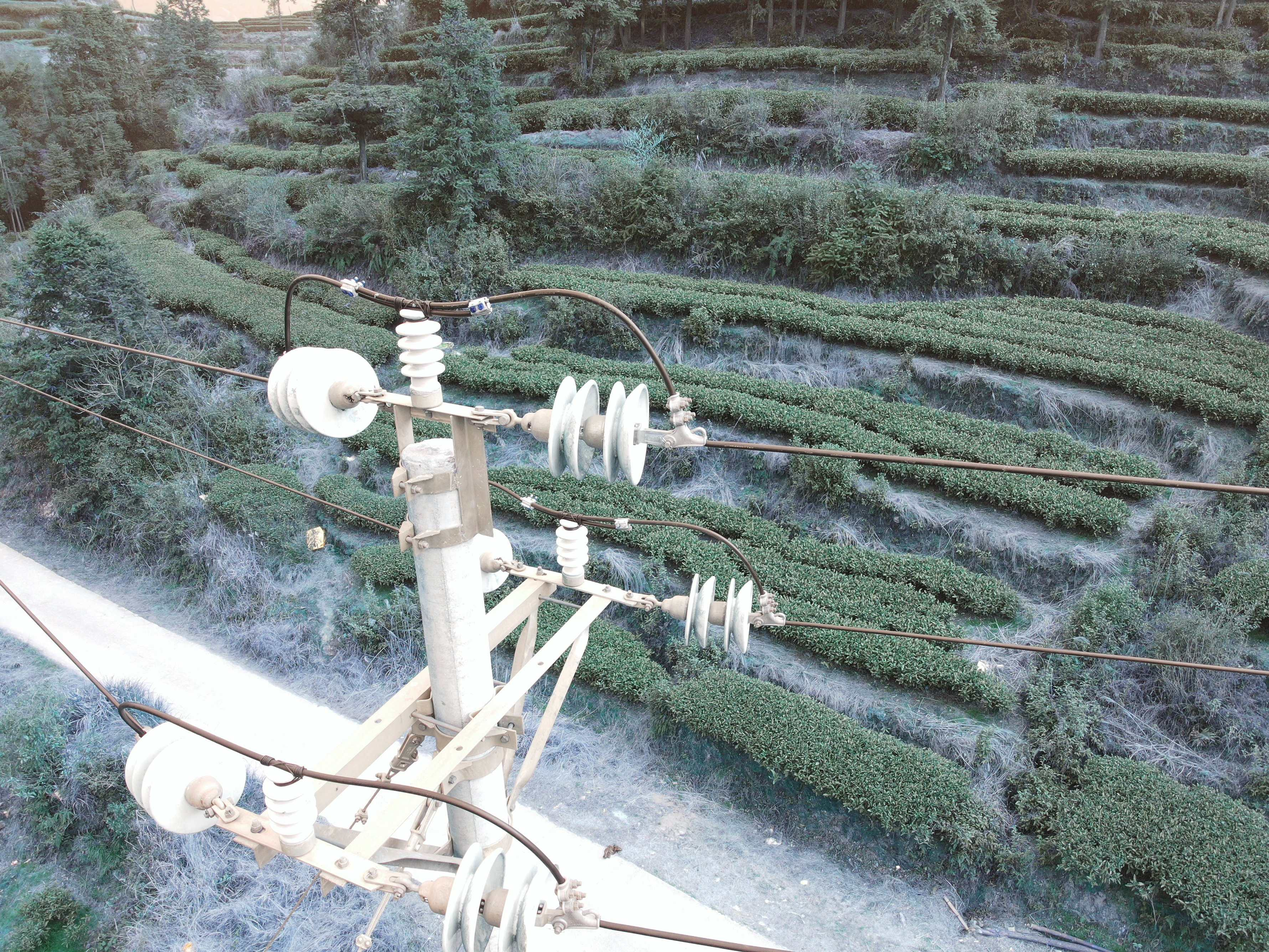severe_soiling_no_discharge_whole: (418, 840, 563, 951), (520, 373, 655, 490), (266, 343, 383, 442), (659, 571, 757, 655)
